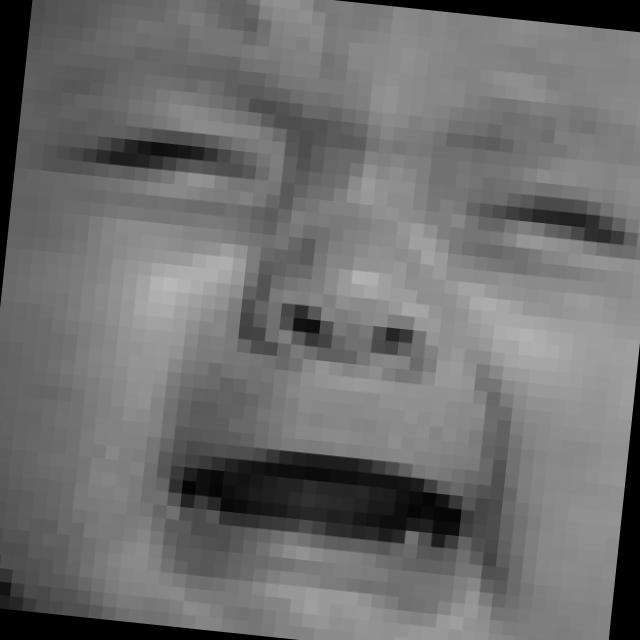sad: (5, 9, 640, 640)
